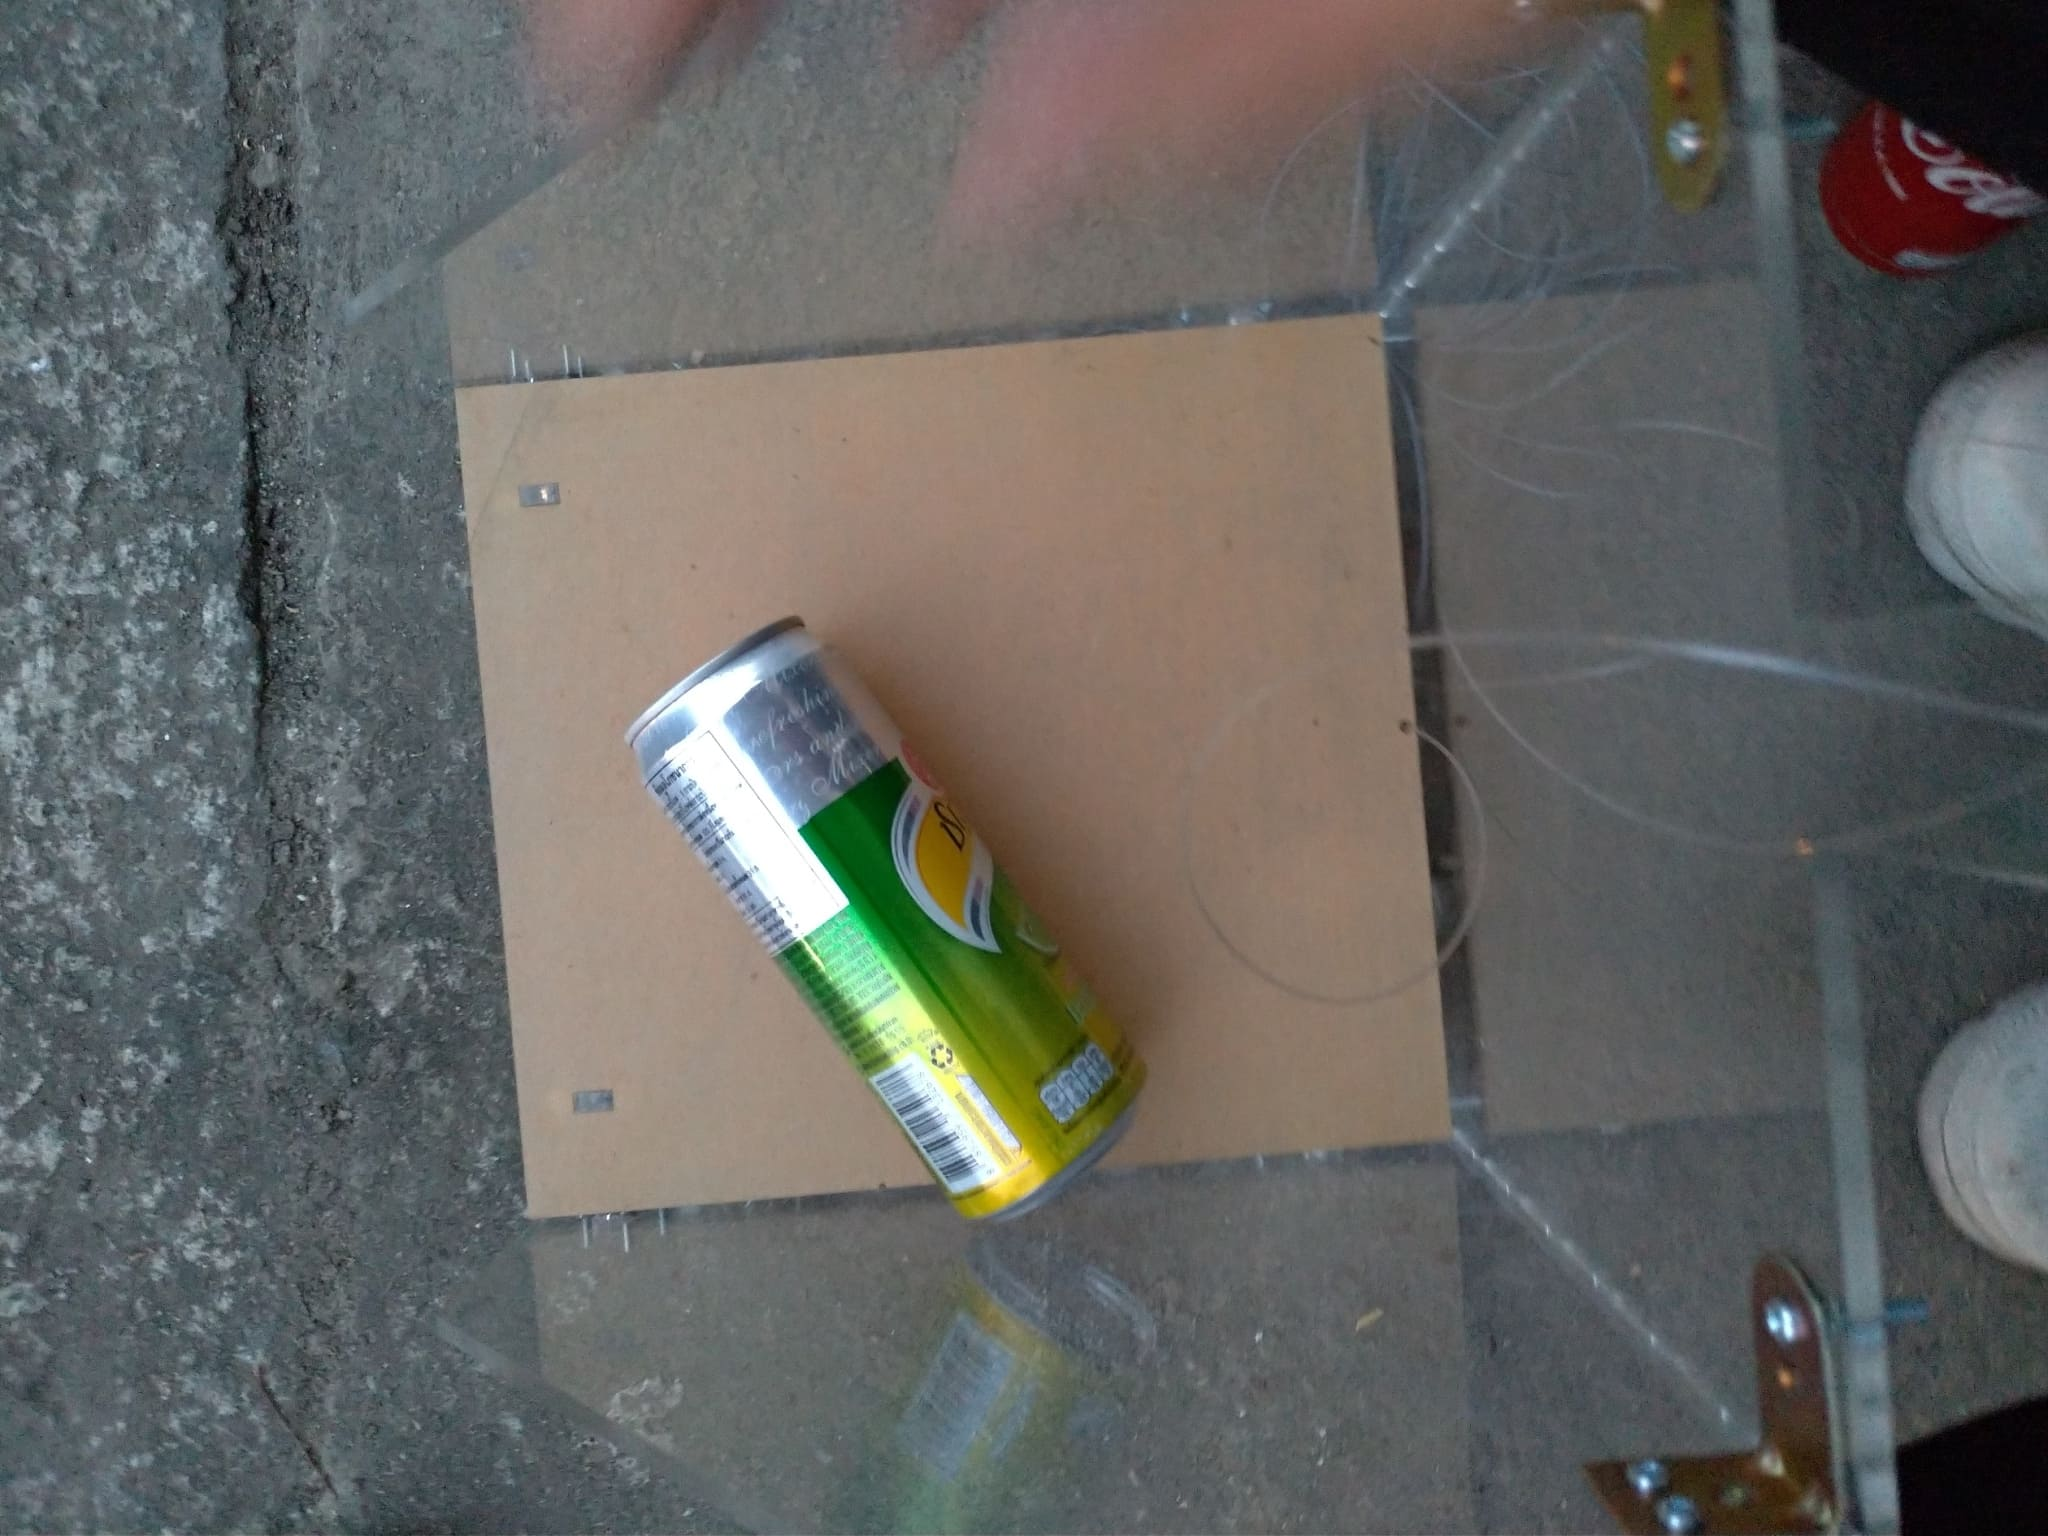AlCan: (611, 611, 1153, 1231)
